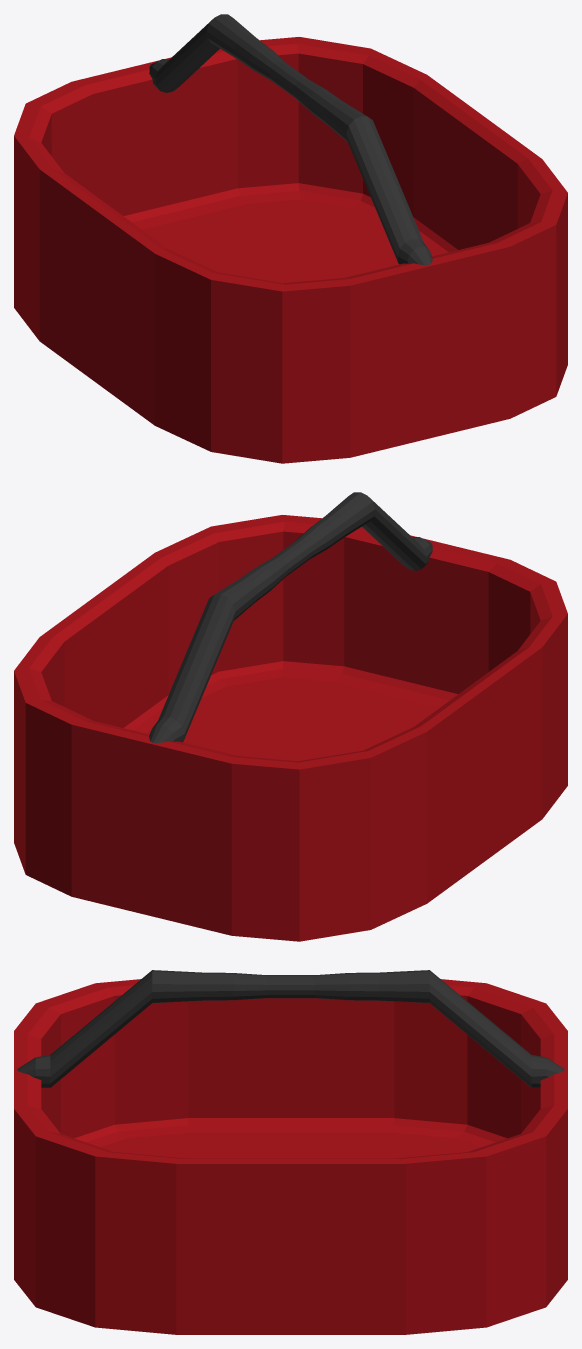
The model's file is toolbox.fbx.
3 views of the same model, one above another, from view 1: azimuth 30°, elevation 25°; view 2: azimuth 150°, elevation 25°; view 3: azimuth 270°, elevation 25° (orthographic).
Visible parts, largest first — view 1: Cube; view 2: Cube; view 3: Cube.
Boxes of the visible parts, x1,y1,x2,y2 form: Cube: [14, 14, 567, 463]; Cube: [14, 492, 567, 941]; Cube: [14, 970, 567, 1334].
Size of the model in its own units: 462 by 309 by 576.
